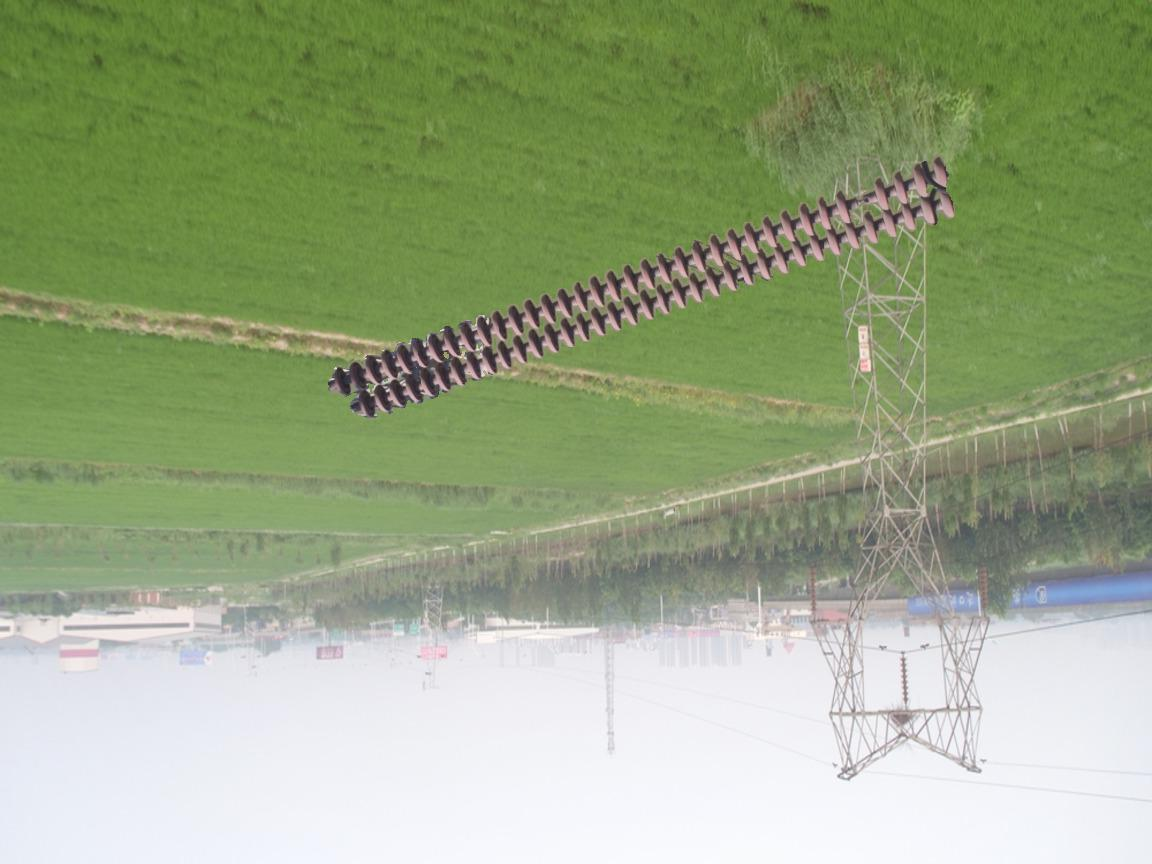insulator: (330, 151, 958, 420), (805, 563, 821, 617), (897, 653, 912, 705), (976, 563, 991, 613)
insulator_stringdrop: (832, 176, 891, 228)
